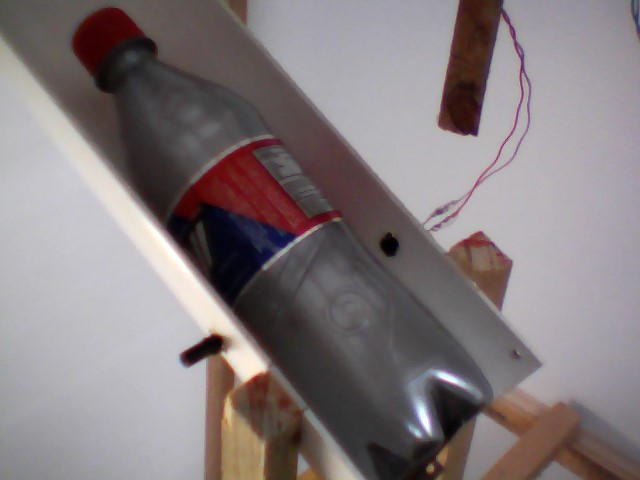plastico: (63, 3, 494, 471)
